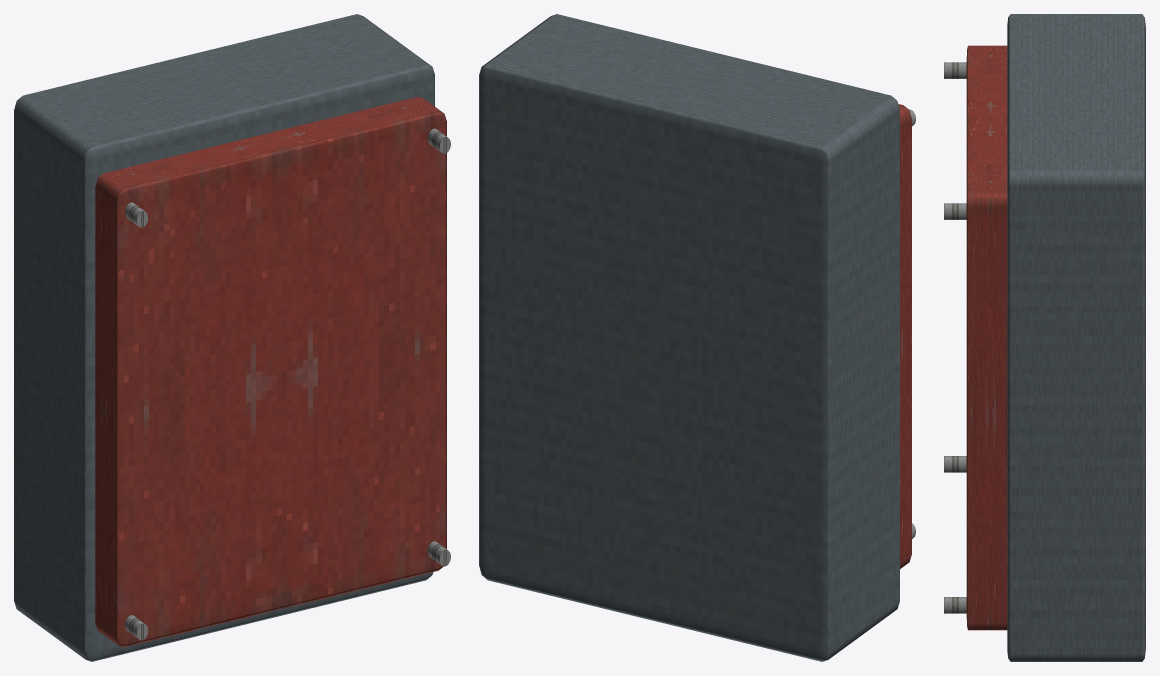
The model's file is alarm-pull.glb.
3 views of the same model, side by side, from view 1: azimuth 30°, elevation 25°; view 2: azimuth 150°, elevation 25°; view 3: azimuth 270°, elevation 25° (orthographic). The views are drawn at different scales.
Parts seen in each view (by area): view 1: face, back; view 2: back, face; view 3: back, face, pin (×4).
Boxes of the visible parts, left/top/right/bottom form: face: left=95, top=96, right=446, bottom=647; back: left=14, top=14, right=434, bottom=661; back: left=479, top=14, right=899, bottom=661; face: left=898, top=104, right=911, bottom=568; back: left=1007, top=14, right=1145, bottom=661; face: left=966, top=45, right=1007, bottom=630; pin (×4): left=944, top=62, right=966, bottom=613.
Bounding box in the file's own units: 0.1 × 0.14 × 0.052.
Materials: 3 (3 with a texture image).
